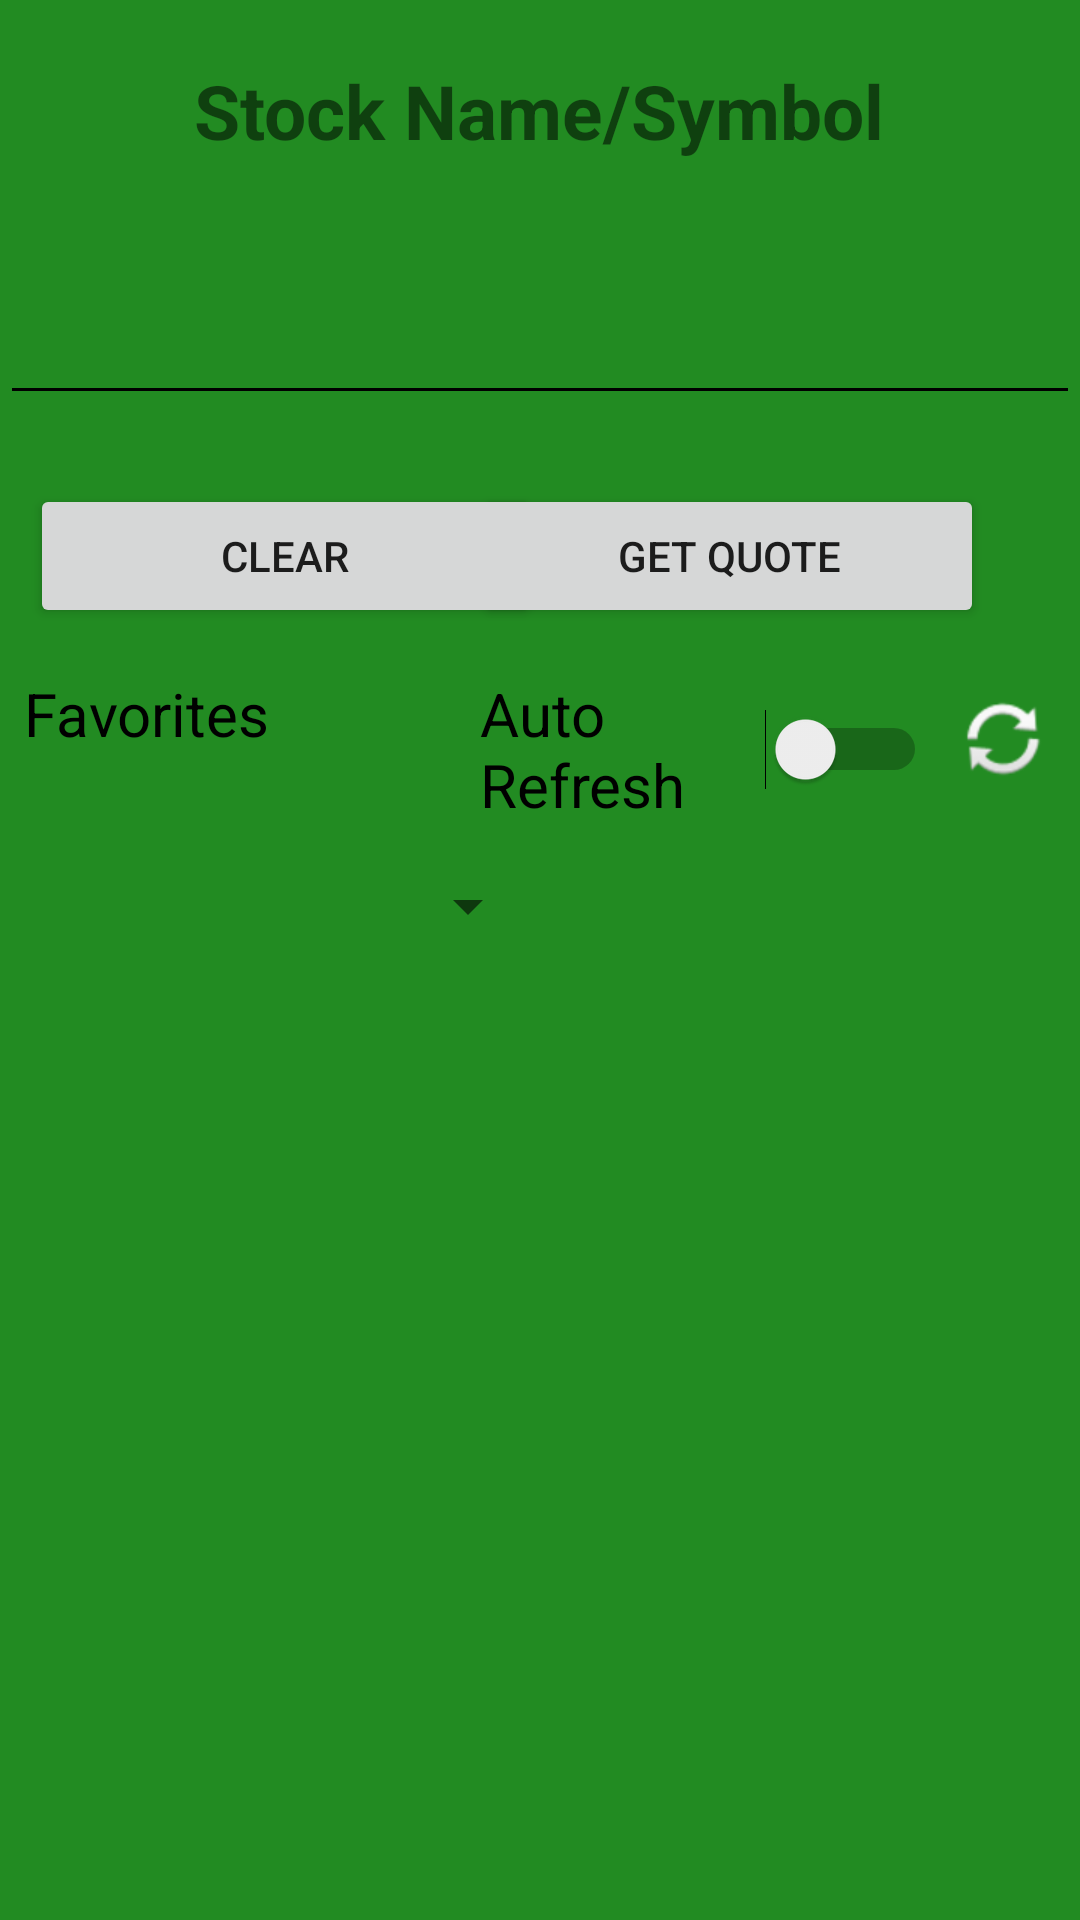

Named icons in this screenshot (1080w x 1920h) and their bounding boxes, (x1, y1, x2, y2):
popup sync: (967, 703, 1040, 775)
